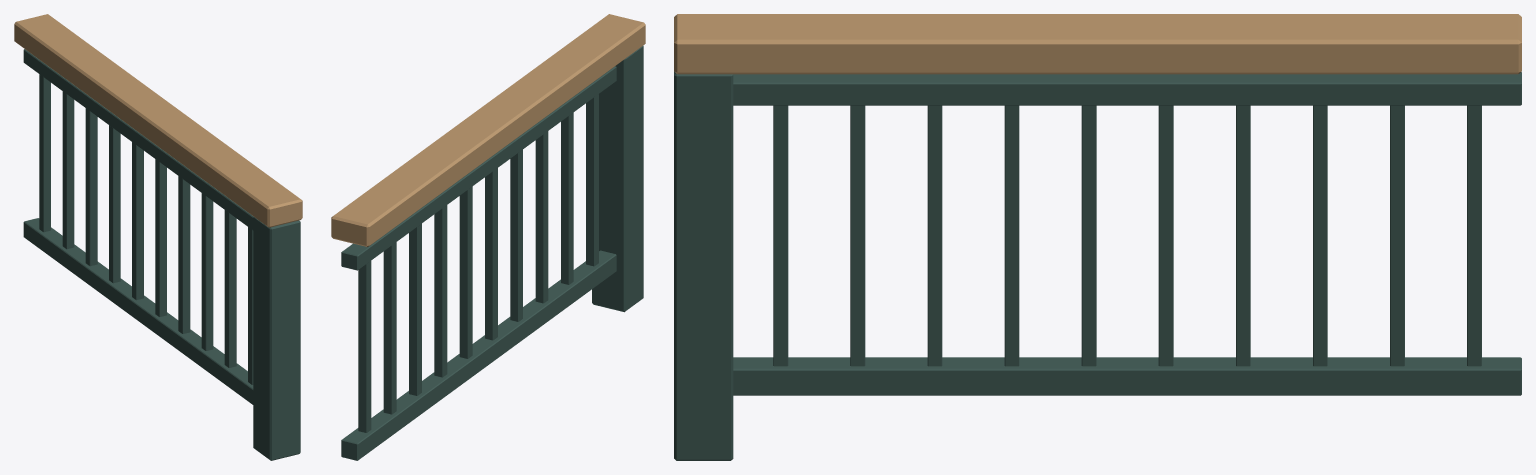
Rendered from RIVER_RAIL_MODULE_2M.fbx.
3 renders of one model, left to right at view 1: azimuth 30°, elevation 25°; view 2: azimuth 150°, elevation 25°; view 3: azimuth 270°, elevation 25°, orthographic. The views are drawn at different scales.
Visible parts, largest first — view 1: RIVER_RAIL_MODULE_2M; view 2: RIVER_RAIL_MODULE_2M; view 3: RIVER_RAIL_MODULE_2M.
Part boxes in pixels (x1=…): RIVER_RAIL_MODULE_2M: x1=14, y1=14, x2=302, y2=460; RIVER_RAIL_MODULE_2M: x1=331, y1=14, x2=645, y2=460; RIVER_RAIL_MODULE_2M: x1=674, y1=14, x2=1521, y2=460.
Size of the model in its own units: 0.16 by 1.1 by 2.
